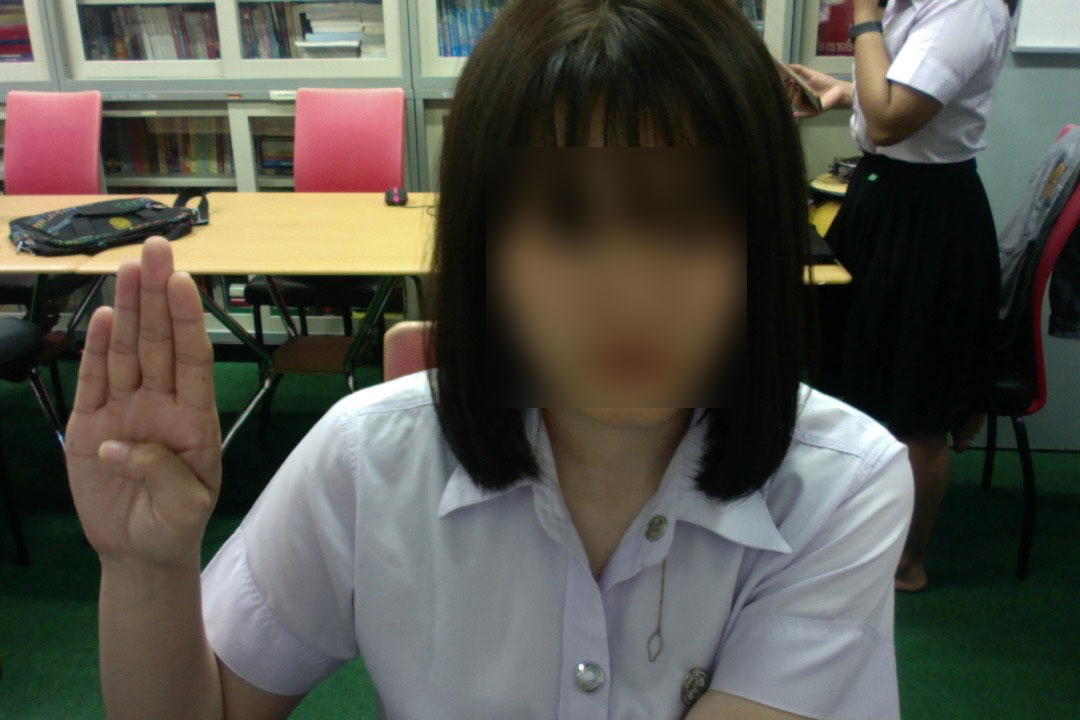bor: (57, 230, 231, 567)
